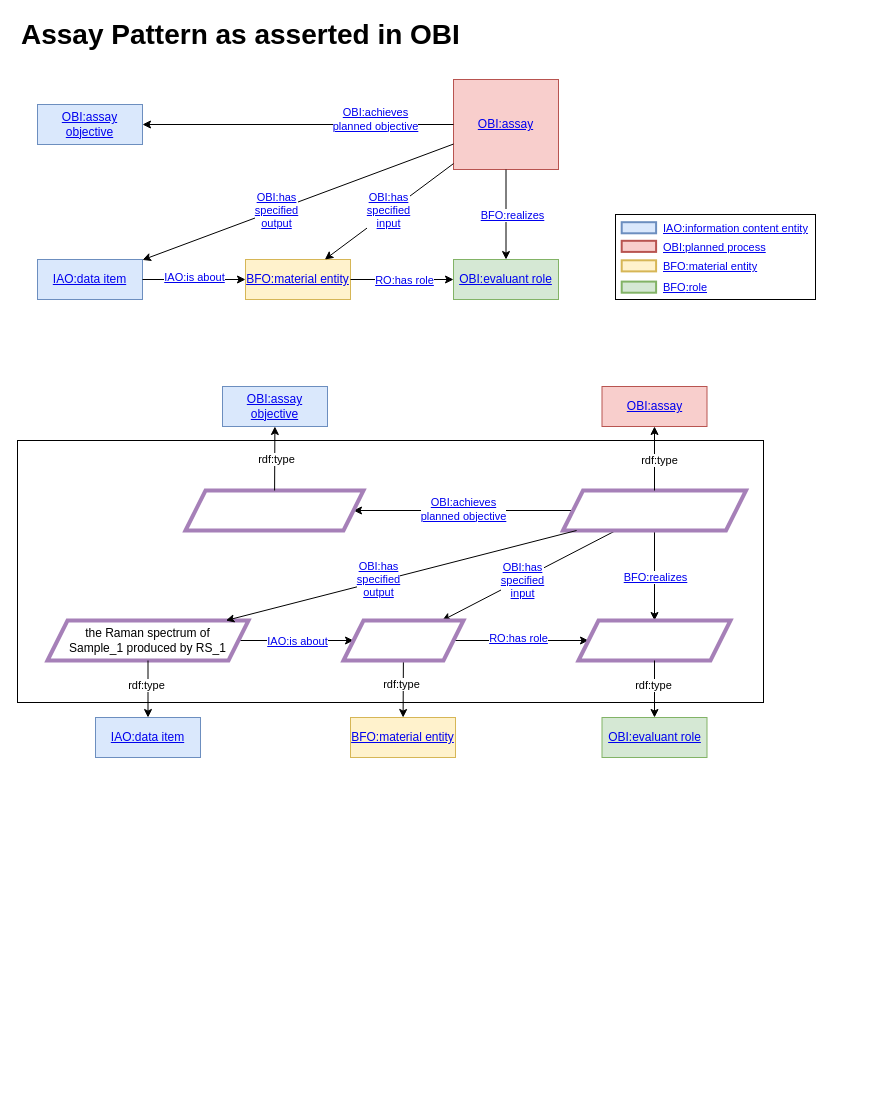
The diagram is 887 pixels wide and 1116 high, and some of its shapes have lost their labels. Here are the shapes that lost their labels. From the top down, the box of each, then its label:
(183, 488, 365, 532): obtain a Raman spectrum of Sample_1
(560, 488, 748, 532): a particular Raman spectroscopy called RS_1
(16, 440, 764, 702): Instance Level
(341, 618, 465, 662): Sample_1
(576, 618, 732, 662): Sample_1 's role of being evaluated
